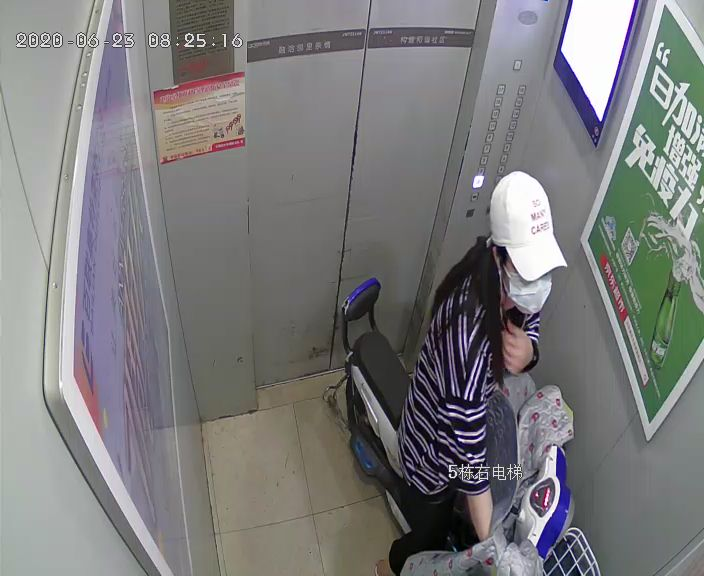Electric-bicycle: (338, 279, 592, 565)
